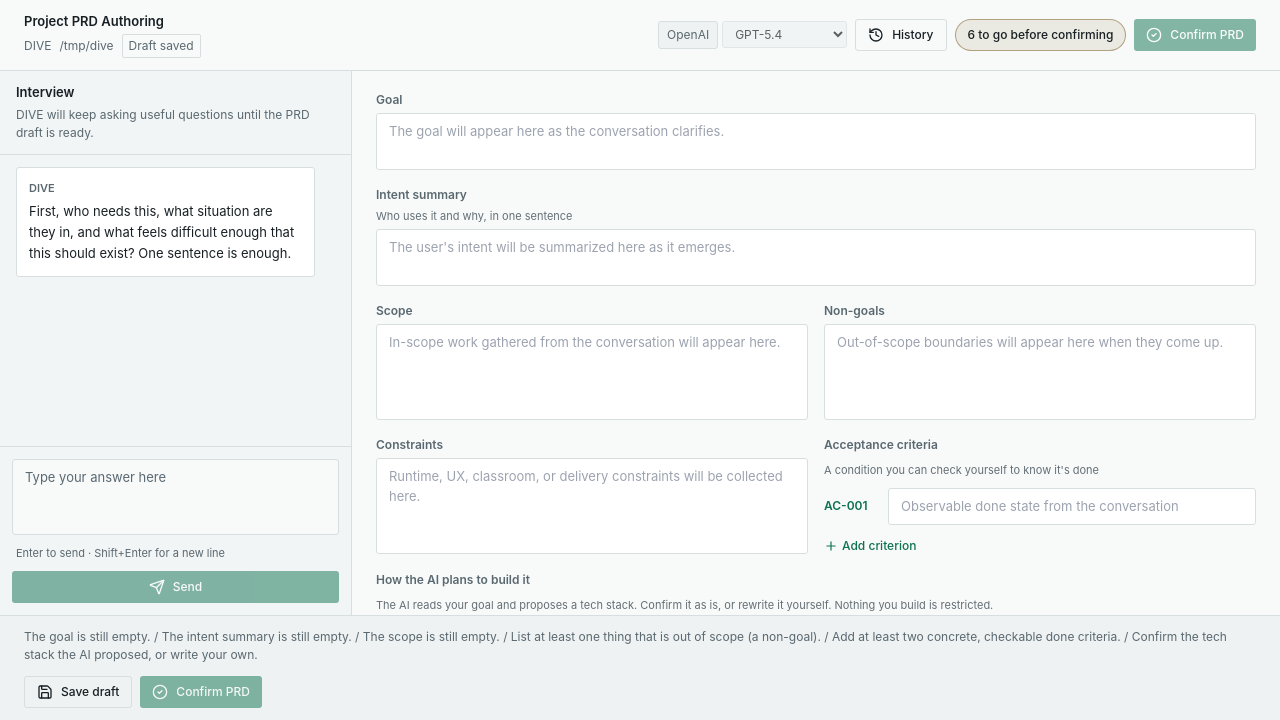
Test: PrdAuthoringBoard › does not submit the same interview answer twice while the first turn is pending
Type "Teachers need to see missing submissions quickly." into the text box with test id "prd-interview-input" at (176, 497), box [12, 458, 339, 535]
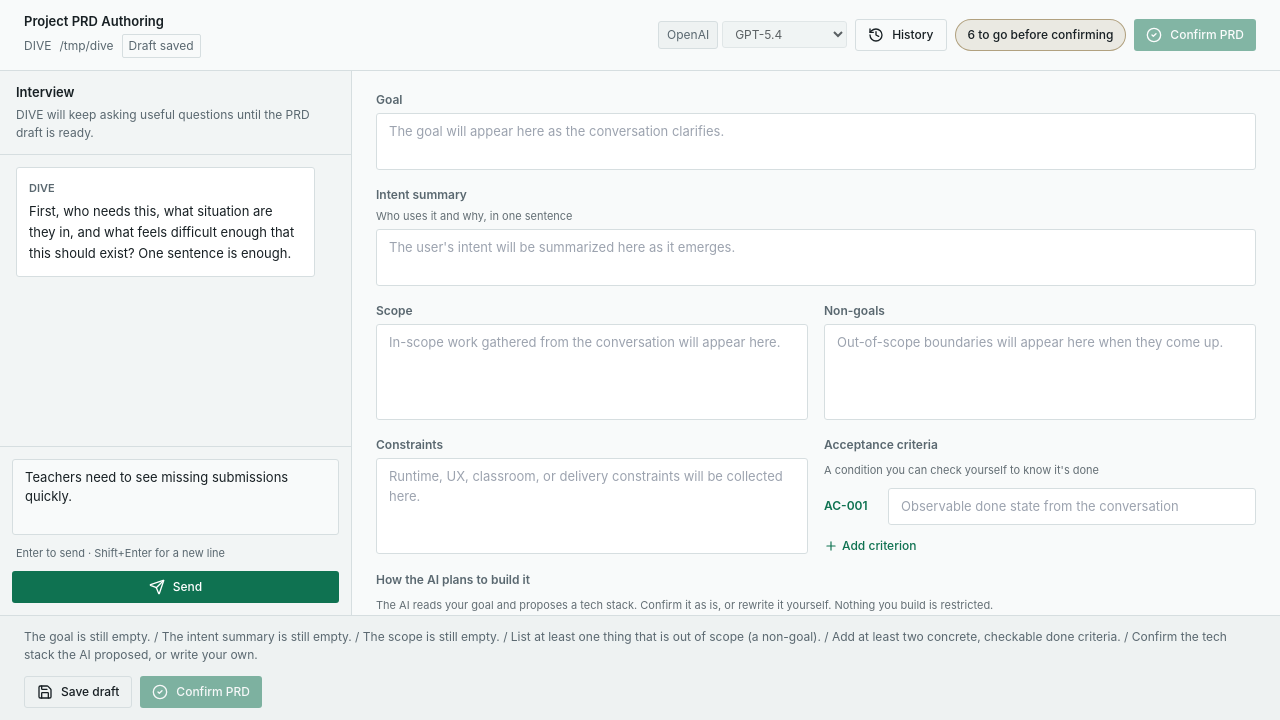
Click the button with test id "prd-interview-send" at (176, 587), box [12, 571, 339, 603]
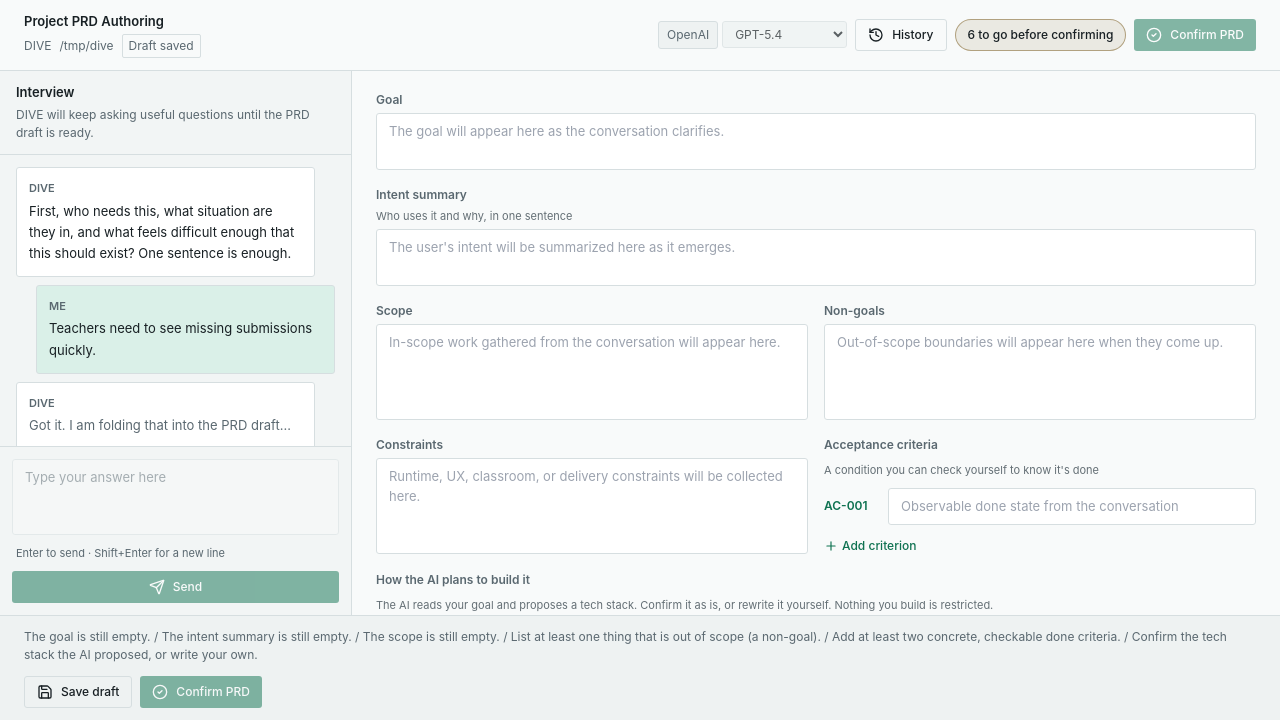
Click the button with test id "prd-interview-send" at (176, 587), box [12, 571, 339, 603]
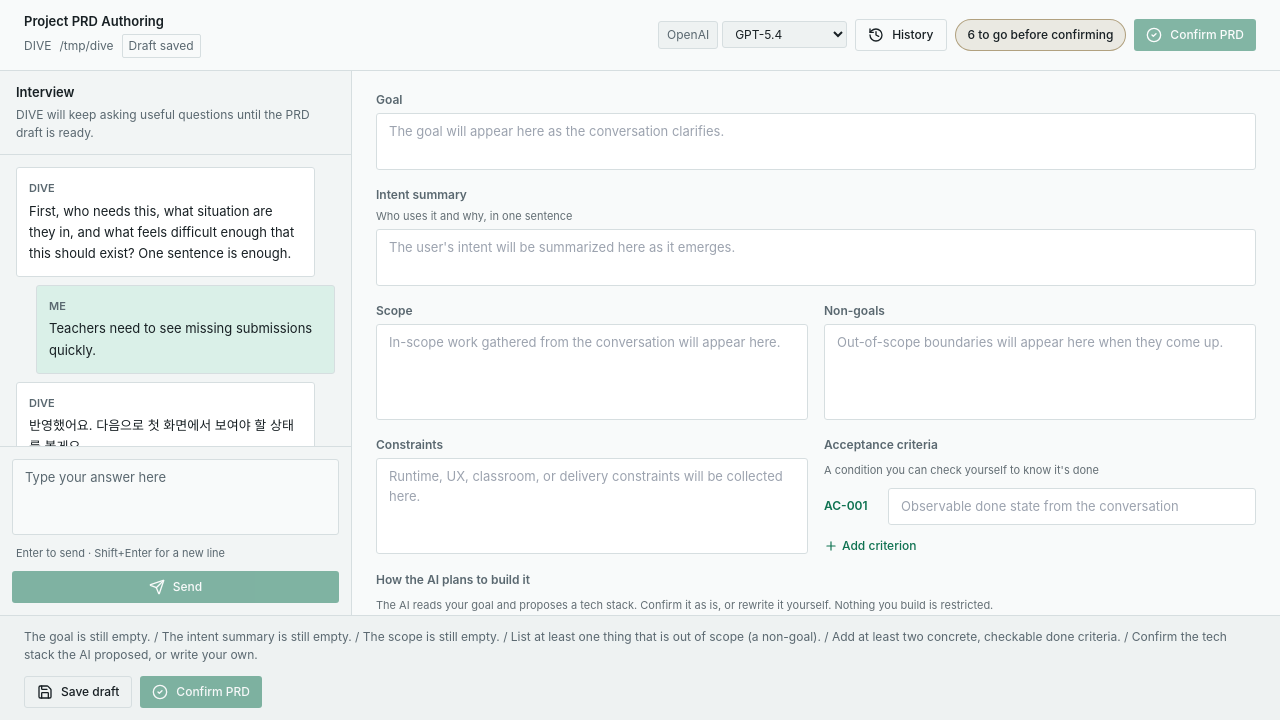
Result: the text "반영했어요. 다음으로 첫 화면에서 보여야 할 상태를 볼게요." is shown at [29, 415, 302, 446]
